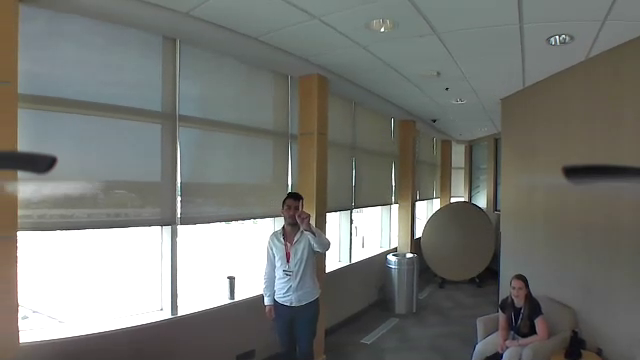up: (291, 199, 312, 230)
